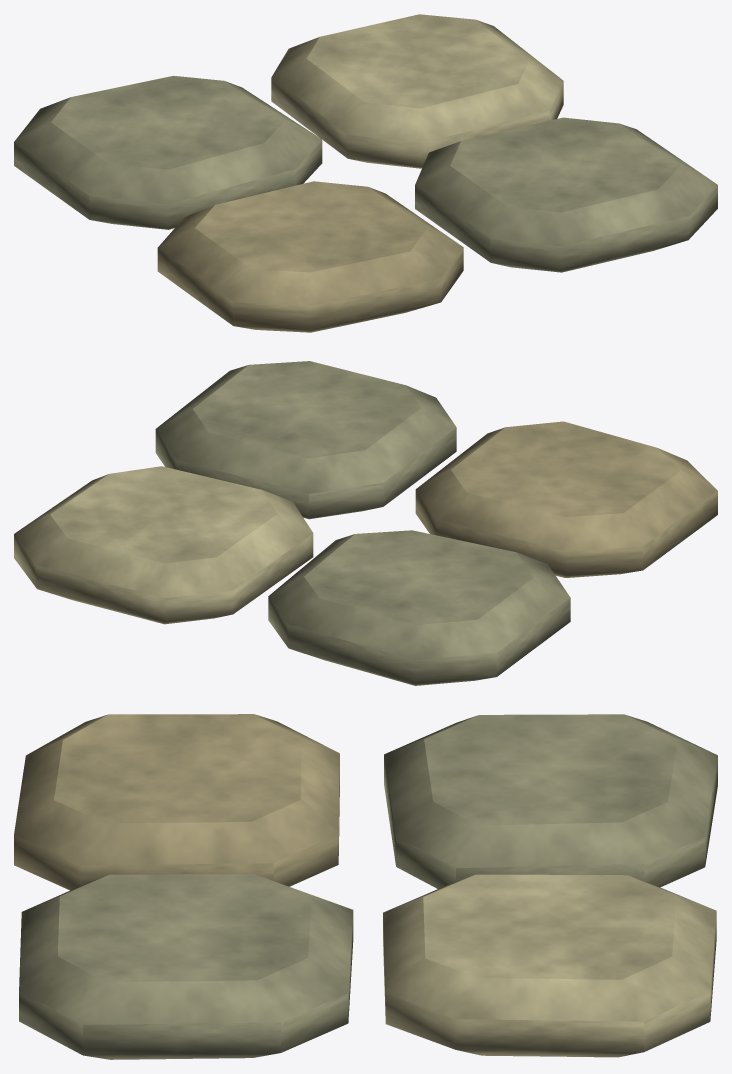
File: stone-floor-2.fbx
3 views of the same model, one above another, from view 1: azimuth 30°, elevation 25°; view 2: azimuth 150°, elevation 25°; view 3: azimuth 270°, elevation 25° (orthographic). The views are drawn at different scales.
Parts seen in each view (by area): view 1: stone-floor-2__Geometry; view 2: stone-floor-2__Geometry; view 3: stone-floor-2__Geometry.
Part boxes in pixels (x1,y1,x2,y2): stone-floor-2__Geometry: (14,14,717,332); stone-floor-2__Geometry: (14,361,717,685); stone-floor-2__Geometry: (14,714,717,1059).
Size of the model in its own units: 0.9702 by 0.12 by 0.9511.
Materials: 1 (1 with a texture image).
